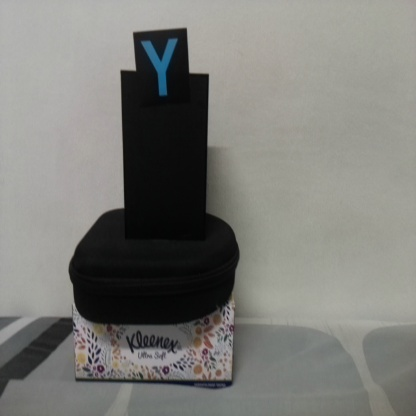id_14: (132, 31, 189, 98)
